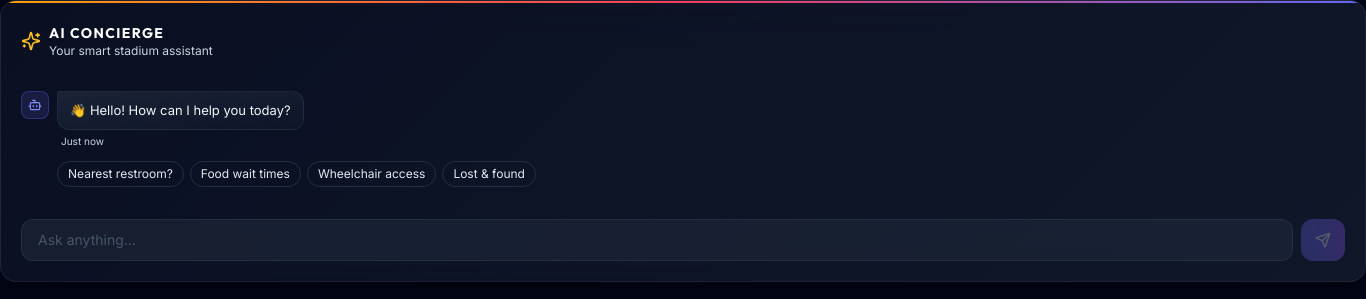
Test case: ChatConcierge Component Tests › displays fallback error message on fetch failure
This screenshot has width=1366, height=299.
Type "Hi" into the field with placeholder "Ask anything..." at (657, 240), box [21, 219, 1293, 261]
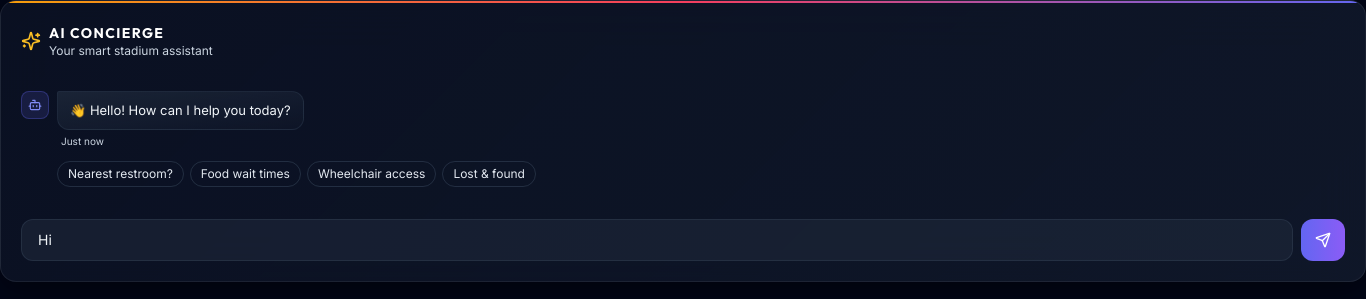
Click the button named "Send message" at (1323, 240), box [1301, 219, 1345, 261]
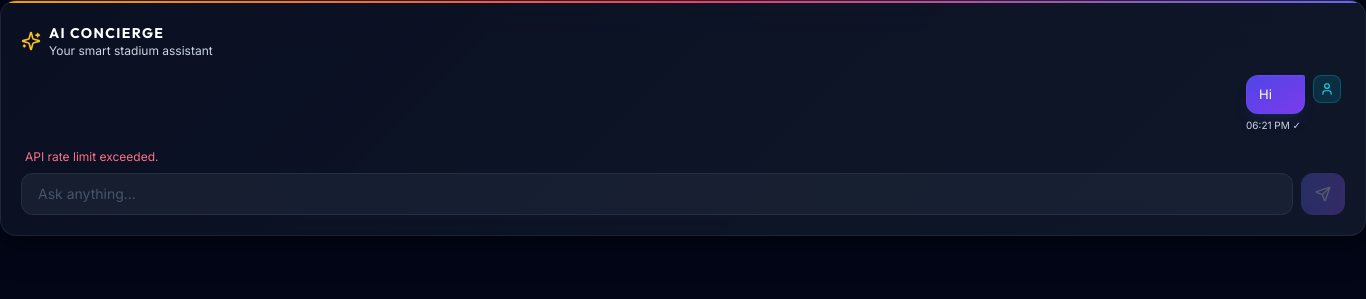
expect the message reads "API rate limit exceeded.": met, box [25, 149, 158, 164]
